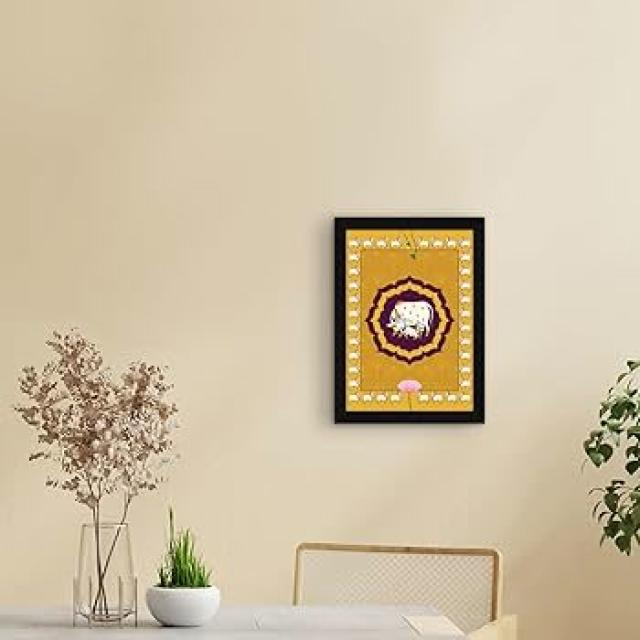painting: (336, 214, 485, 422)
